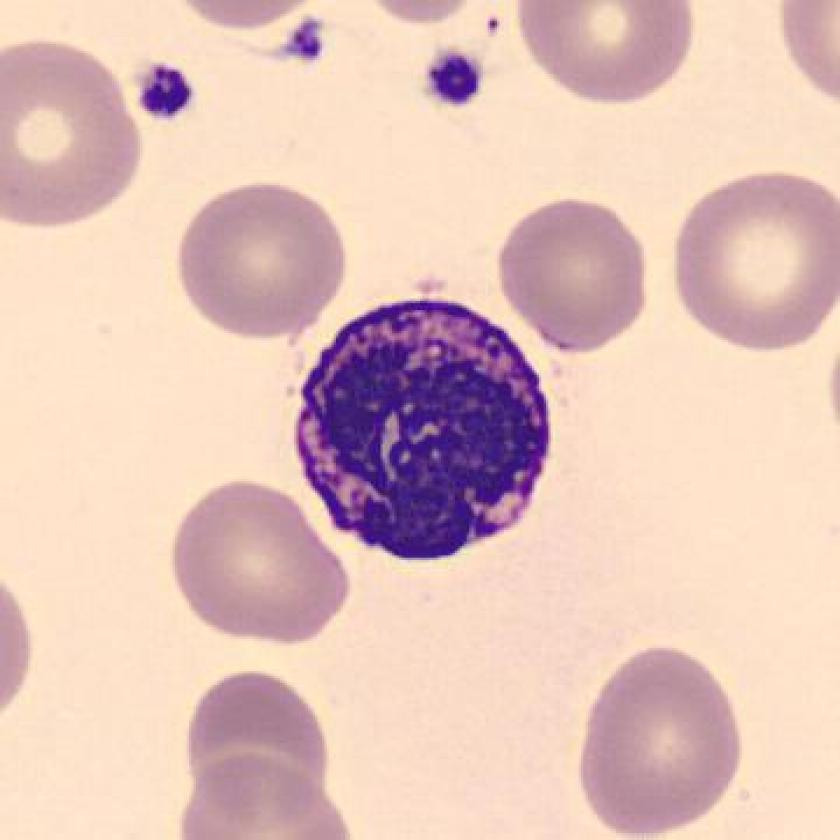basophil: (276, 293, 568, 561)
